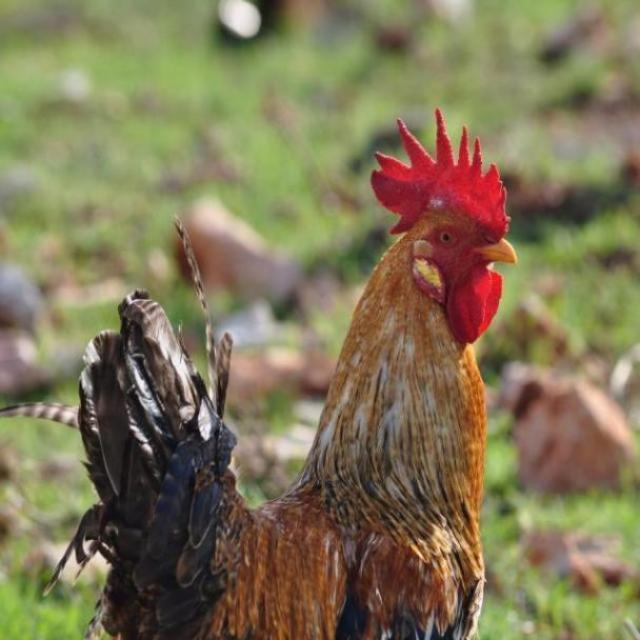Chicken: (0, 108, 525, 639)
